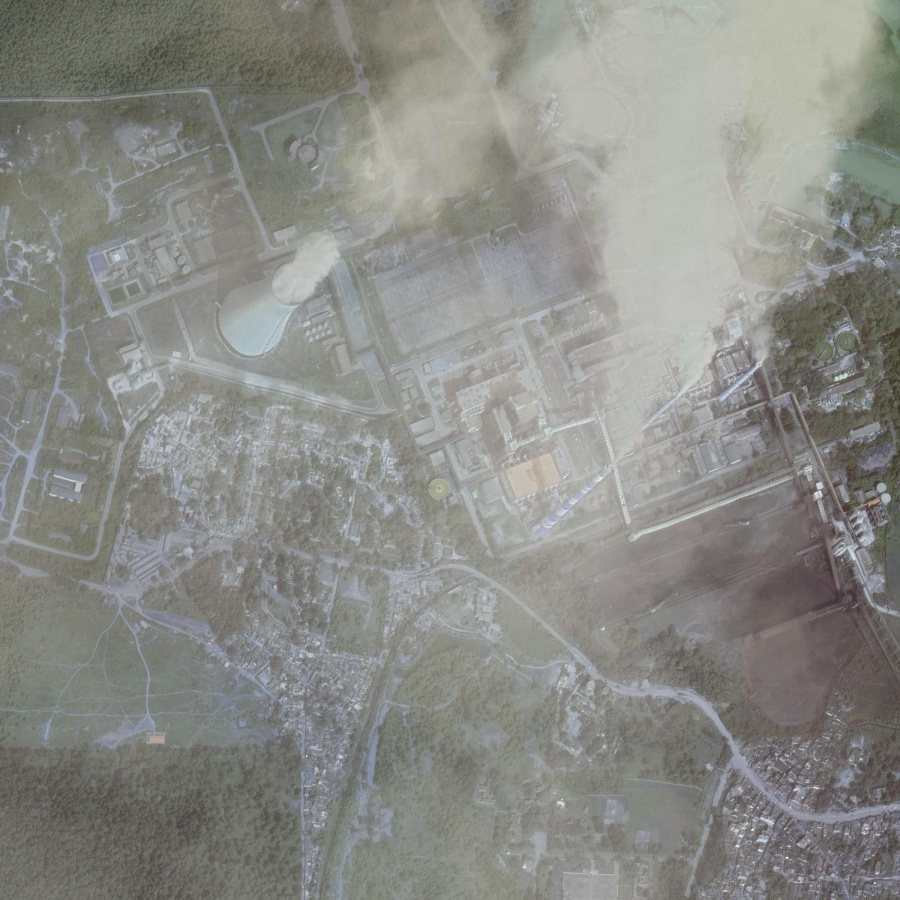PowerPlant: (499, 284, 789, 565), (208, 191, 363, 402)
